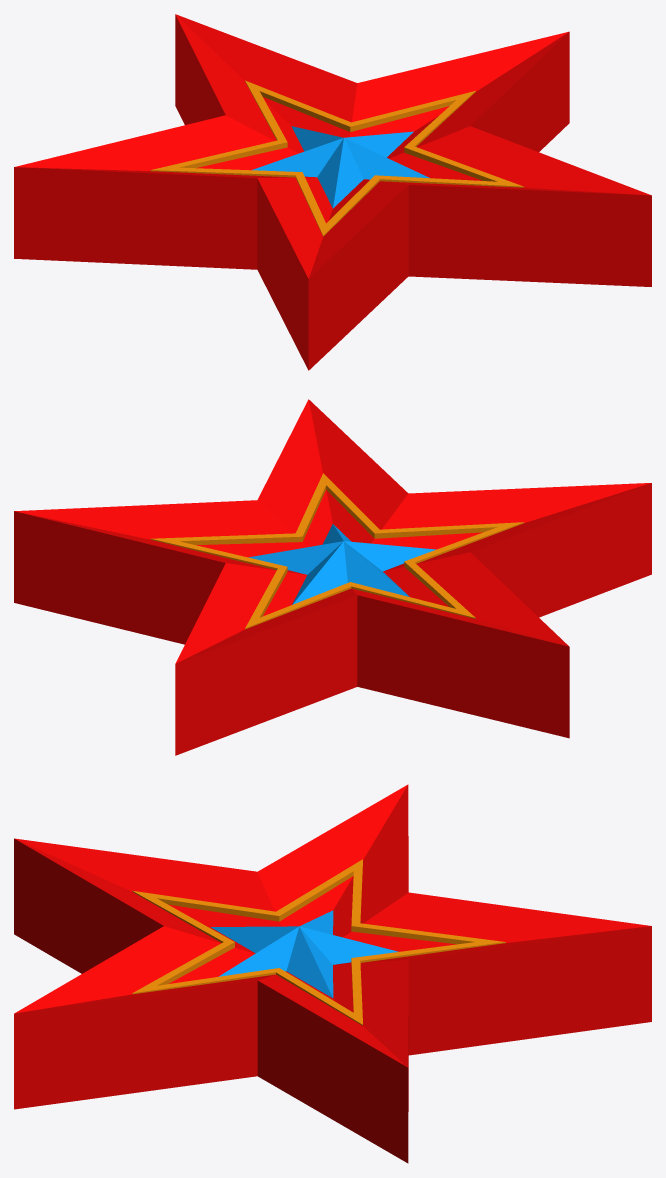
Rendered from star.glb.
The picture shows the model from 3 angles, top to bottom: view 1: azimuth 30°, elevation 25°; view 2: azimuth 150°, elevation 25°; view 3: azimuth 270°, elevation 25°; orthographic projection. The views are drawn at different scales.
Visible parts, largest first — view 1: Circle, Circle.001, Circle.002; view 2: Circle, Circle.001, Circle.002; view 3: Circle, Circle.001, Circle.002.
Part boxes in pixels (left/top/right/bottom): Circle: left=14, top=14, right=651, bottom=370; Circle.001: left=150, top=80, right=524, bottom=236; Circle.002: left=252, top=126, right=429, bottom=208; Circle: left=14, top=399, right=651, bottom=755; Circle.001: left=150, top=473, right=524, bottom=629; Circle.002: left=248, top=524, right=435, bottom=604; Circle: left=14, top=784, right=651, bottom=1163; Circle.001: left=132, top=859, right=505, bottom=1025; Circle.002: left=211, top=910, right=398, bottom=998.
Size of the model in its own units: 3.8 by 0.6 by 3.62.
3 materials, 3 textured.
